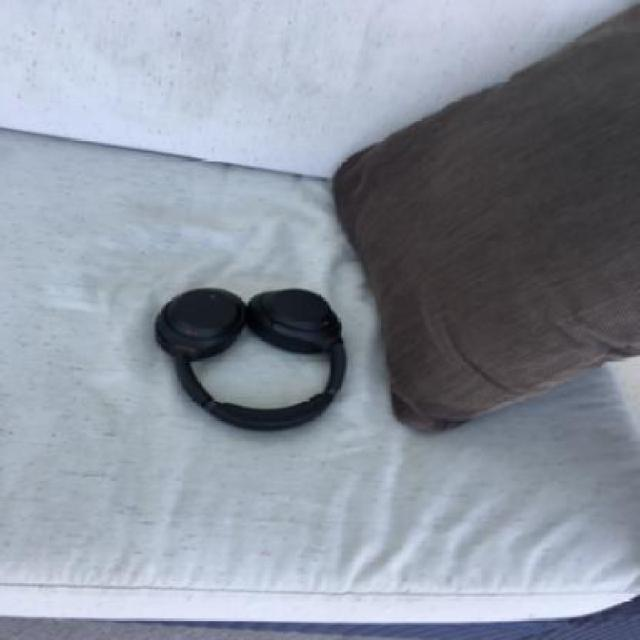earphone: (80, 233, 373, 435)
